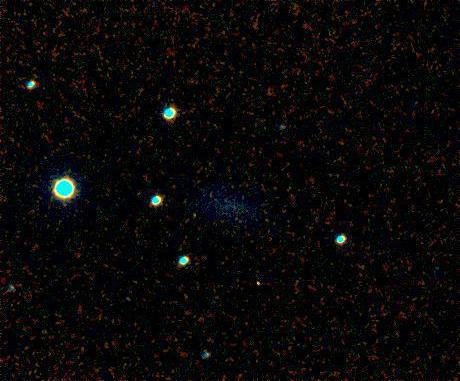star: (243, 262, 273, 292)
